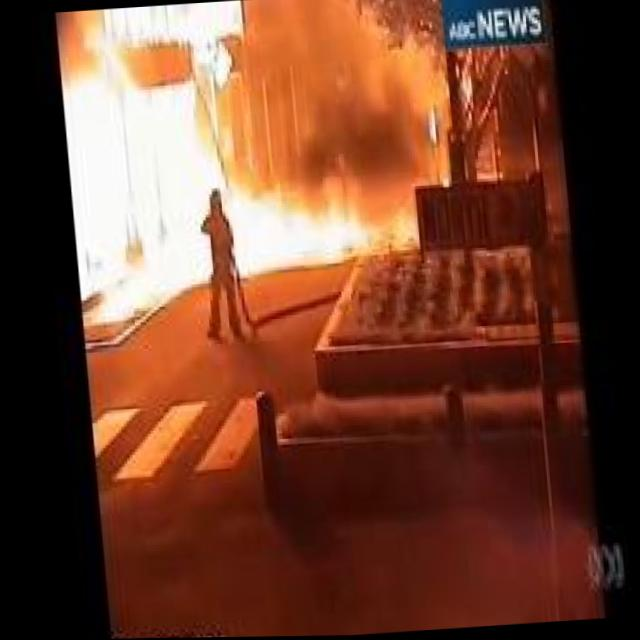fire: (53, 0, 387, 336)
